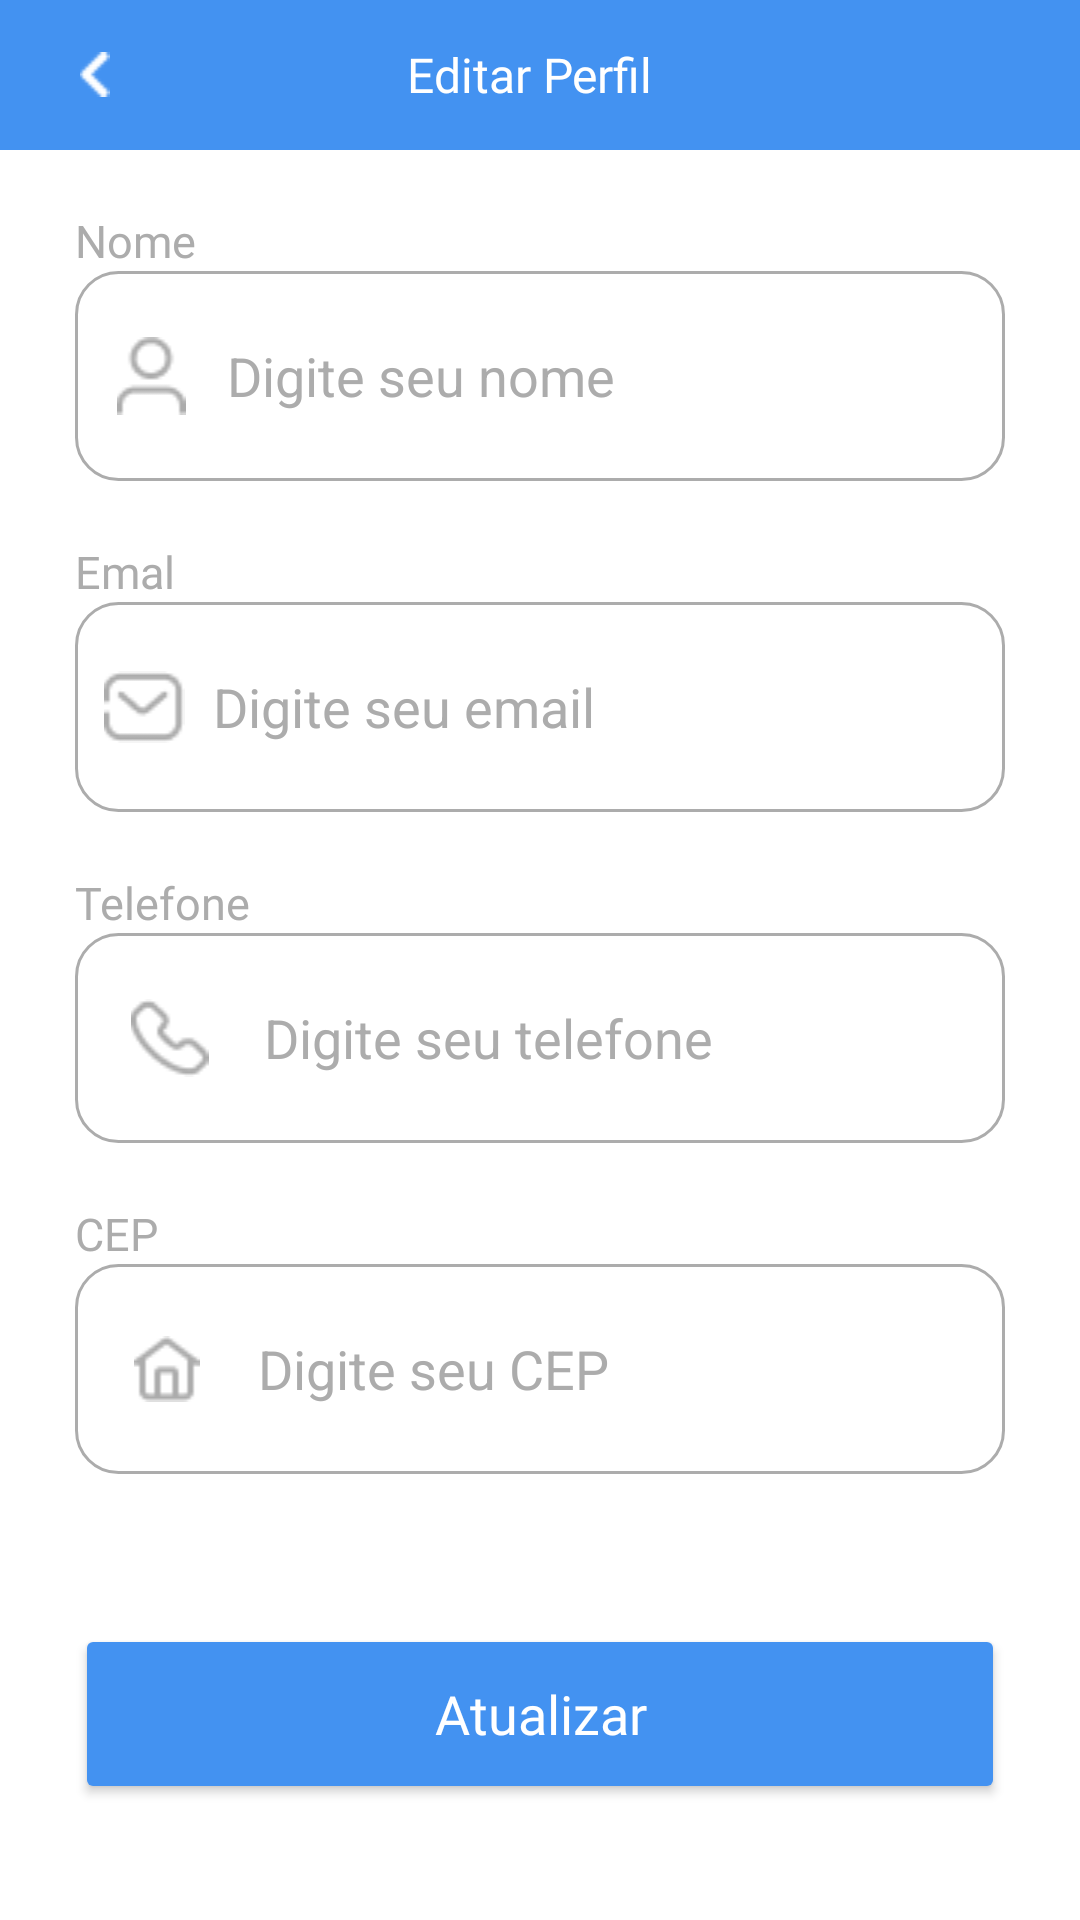

Icons on this 1080x1920 Android screen, each with its box as (left=x1, top=y1, right=x2, bottom=y2):
voltar anuncio: (left=80, top=52, right=110, bottom=97)
